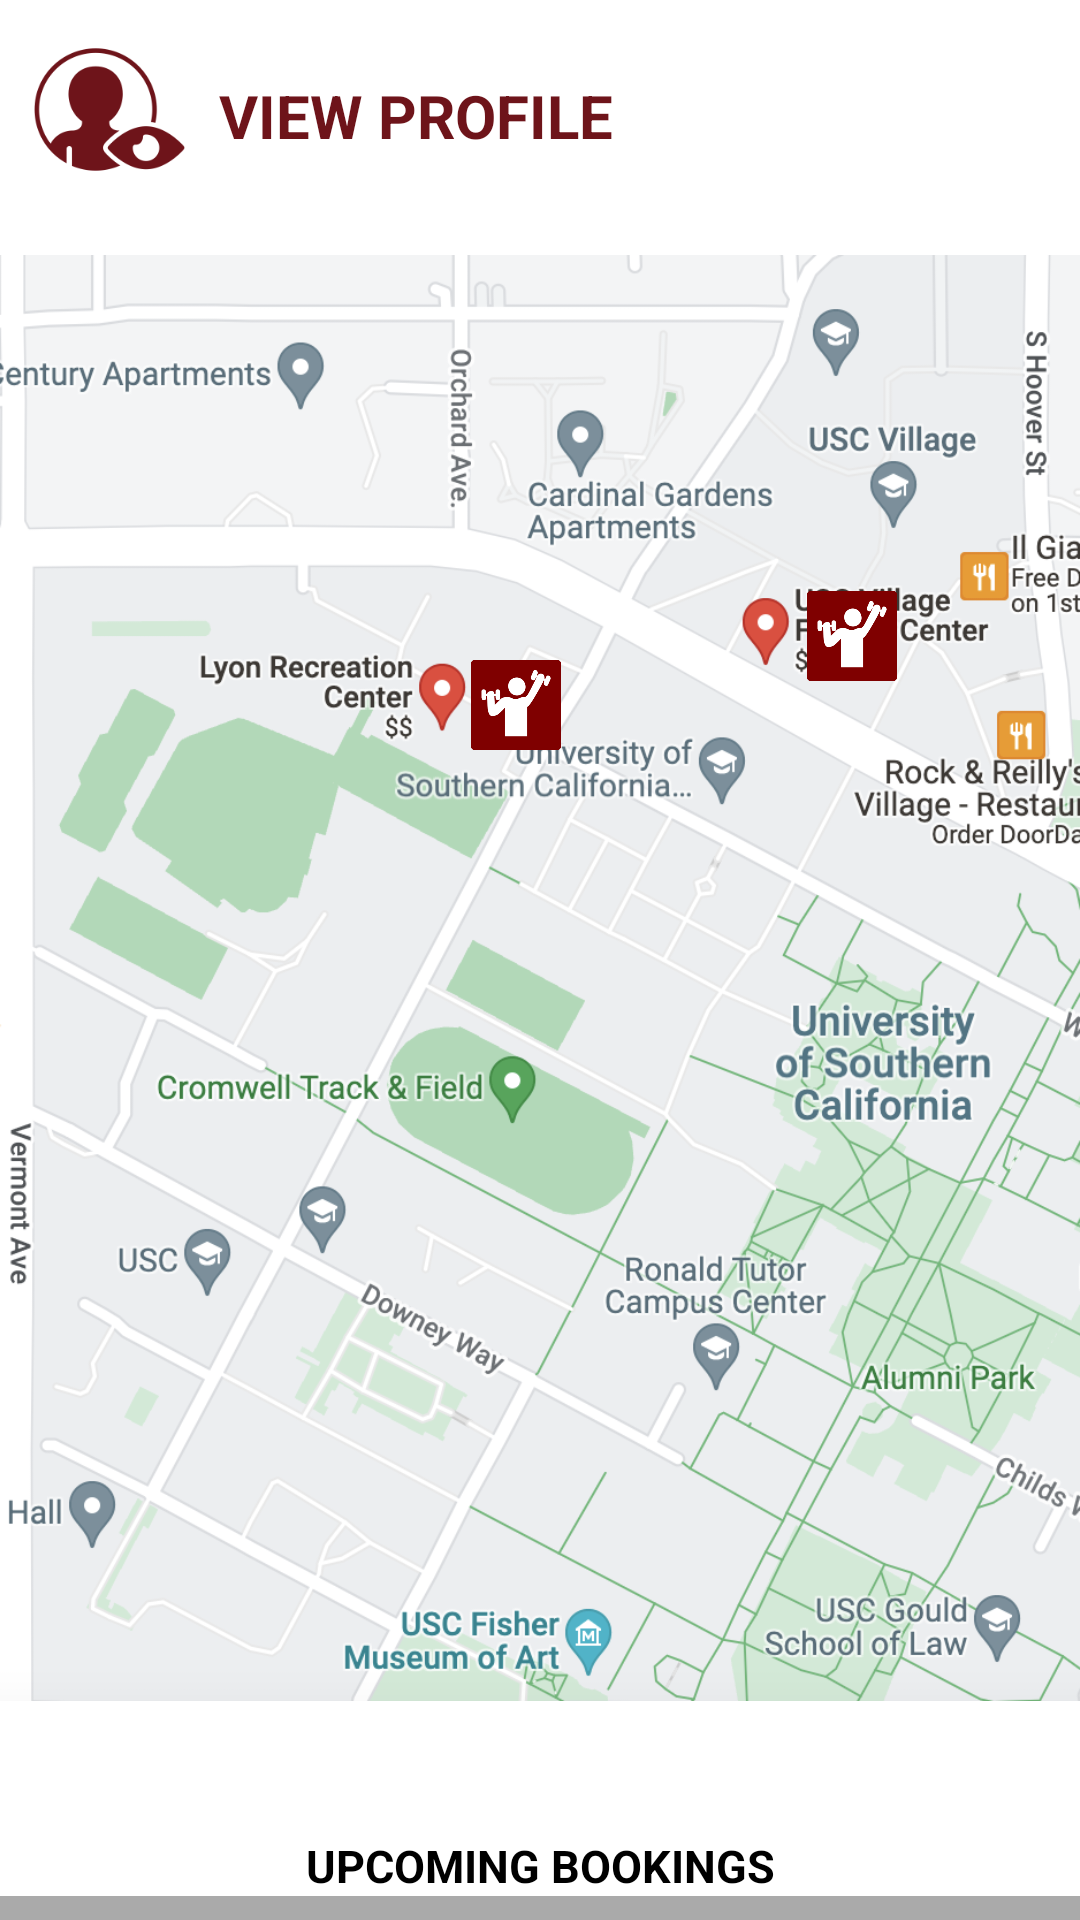

Point at icon controls on the screen. Image size 1080w x 1920h, points as (x,y).
gymicon: (852,636), (516,705)
